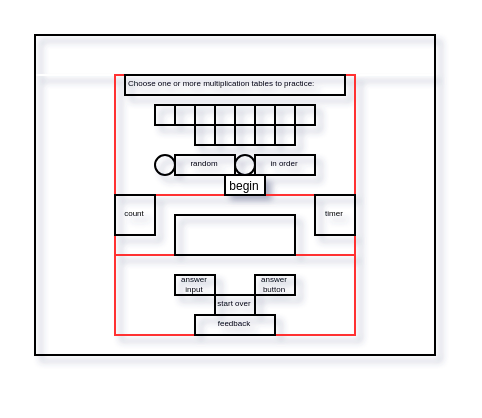
Some shapes in this 482 by 418 pixel diagram are drawn without their labels. Each missing label, with the centre of its shape:
equation: pixel 234 234
Multiplication Master: pixel 234 54
